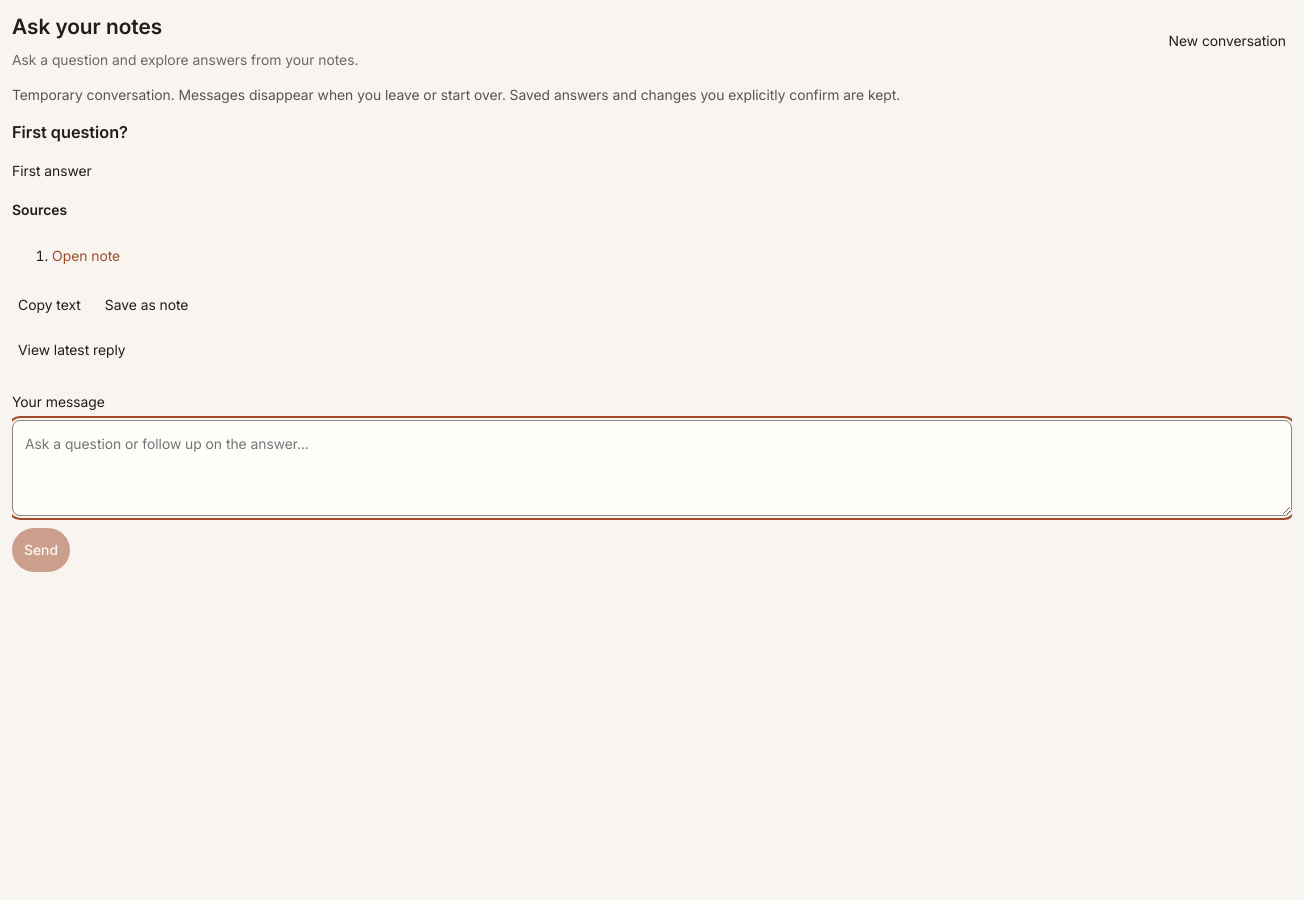
keeps the previous answer and submitted question after failure and retries the same turn
Step 1. Type "What happens next?" into the text box labelled "Your message" → (652, 468), box [12,420,1292,516]
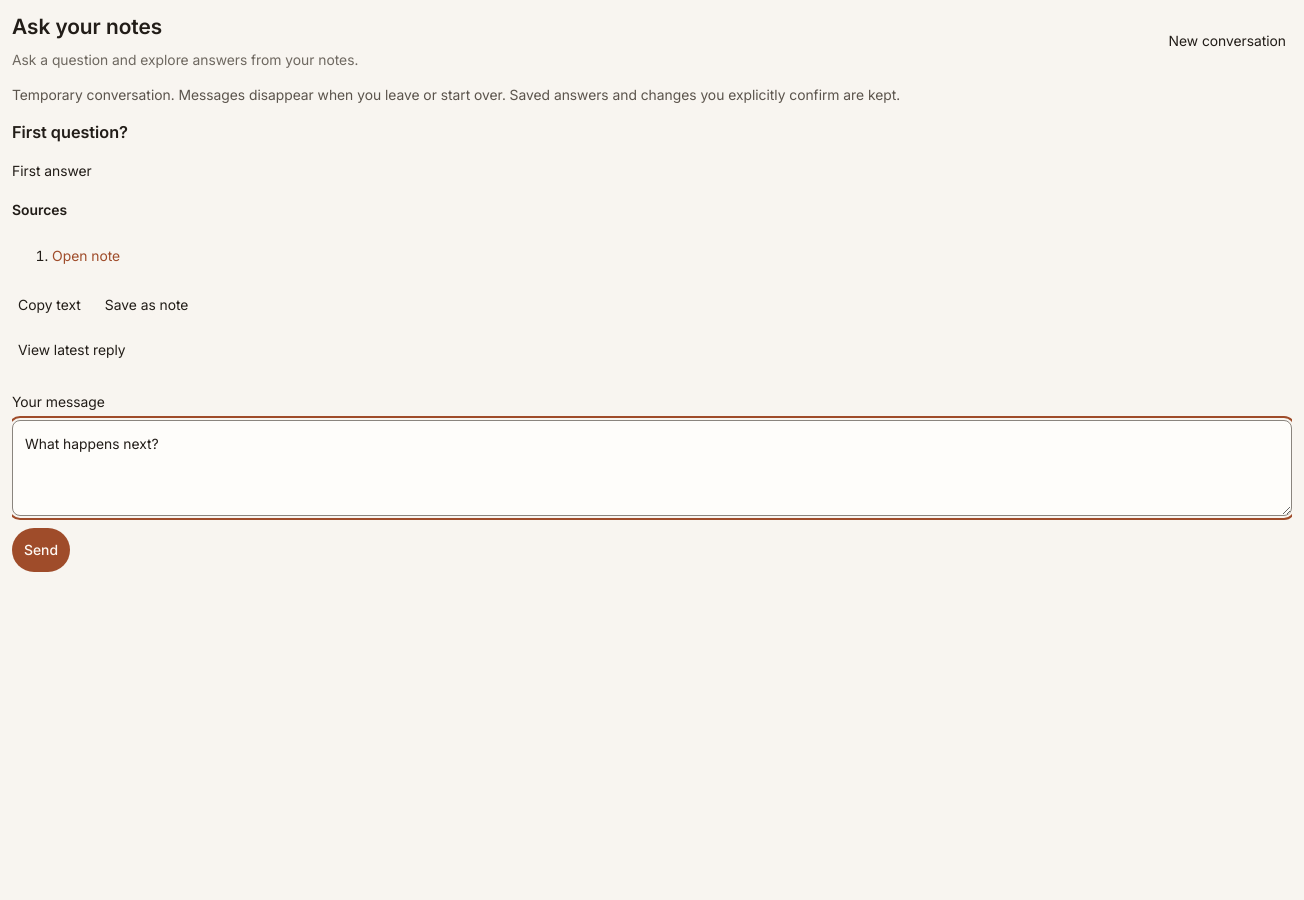
Step 2. Click the button "Send" → (41, 550), box [12,528,70,572]
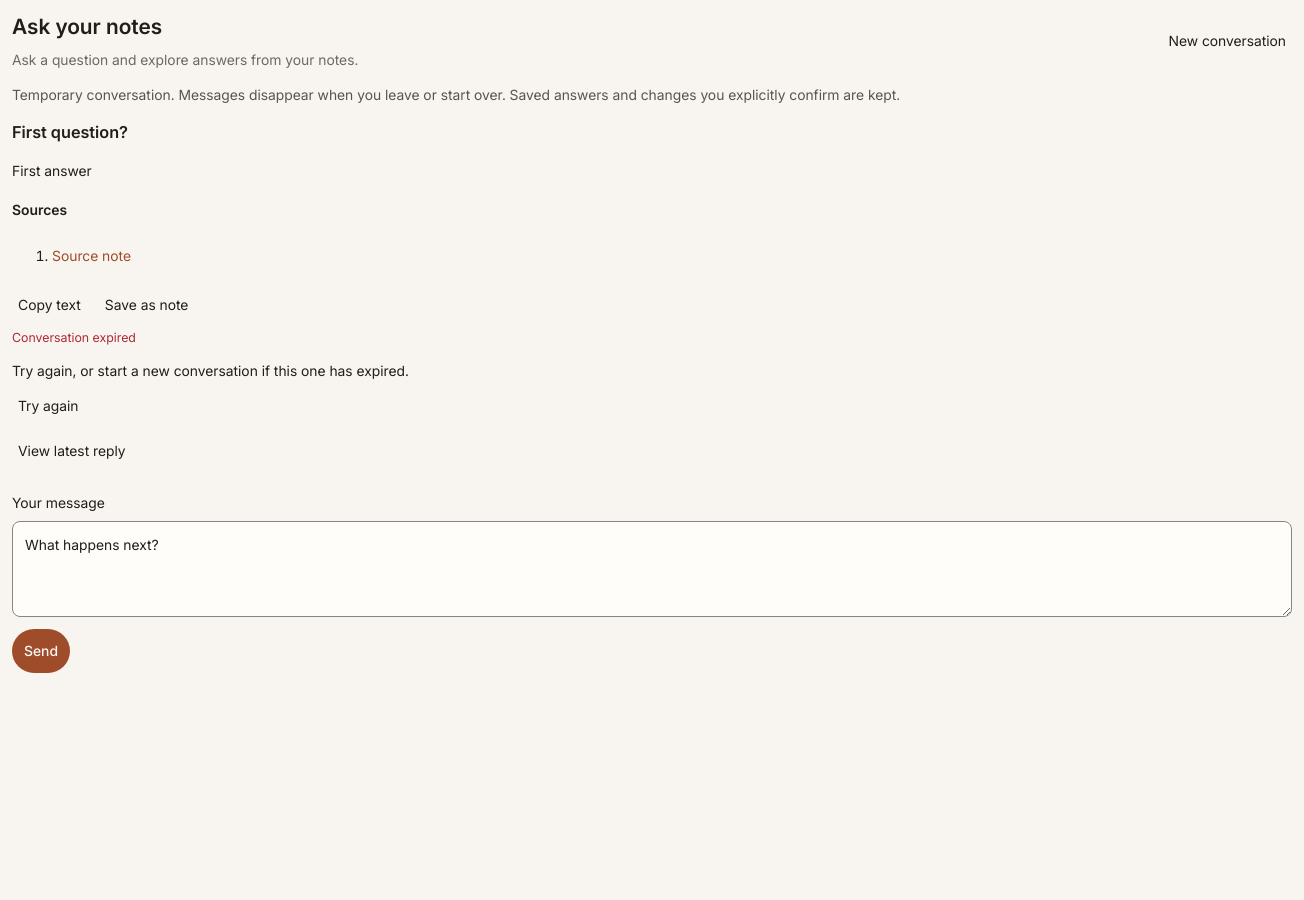
Expected: the text "First answer" is shown, [12,162,92,179]
Now the message is shown, box [12,330,409,417]
Now the text "start a new conversation if this one has expired" is shown, box [12,362,409,379]
Step 3. Click the button "Try again" → (48, 406), box [12,395,84,417]
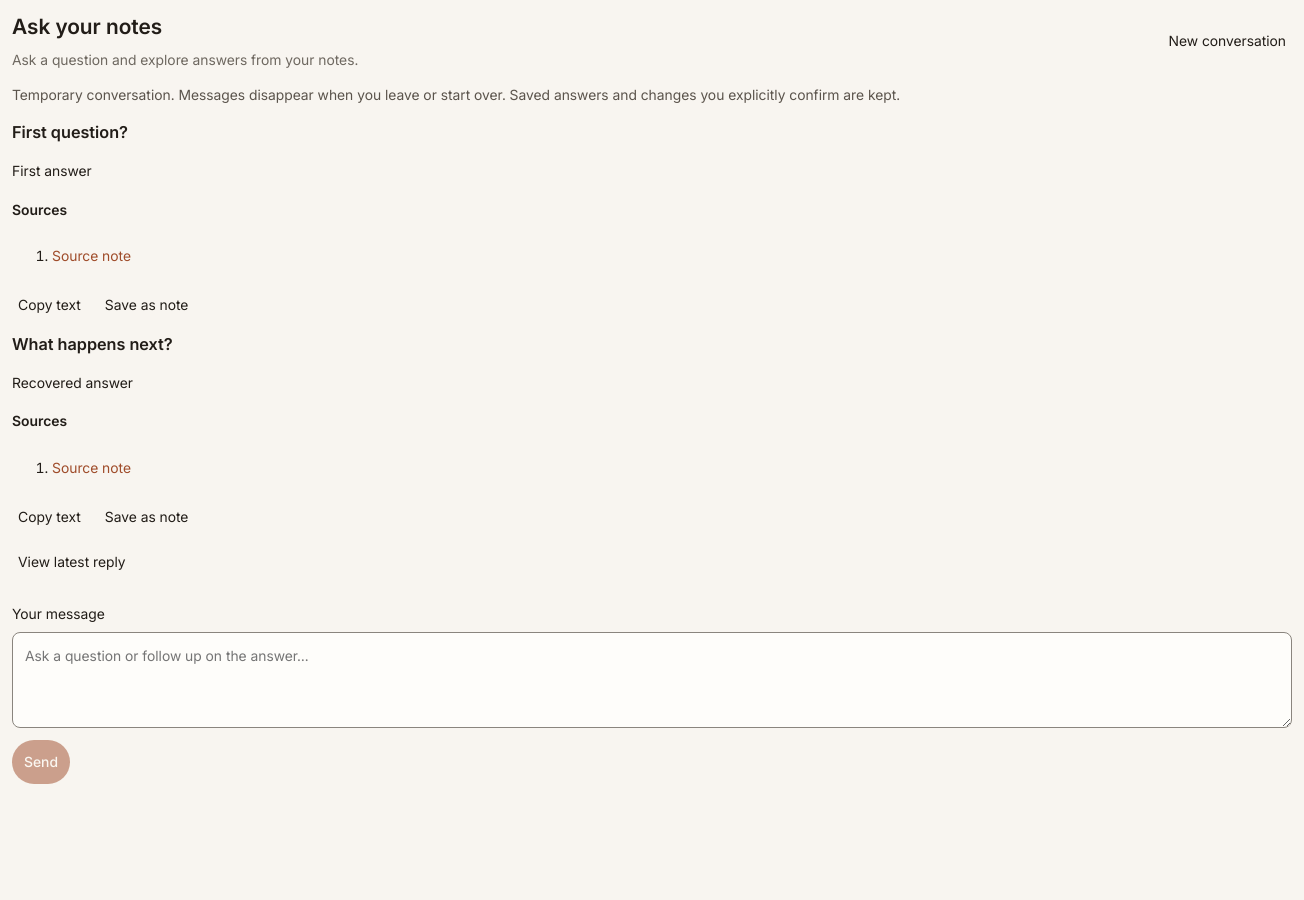
Now the text "Recovered answer" is shown, box [12,374,133,390]
